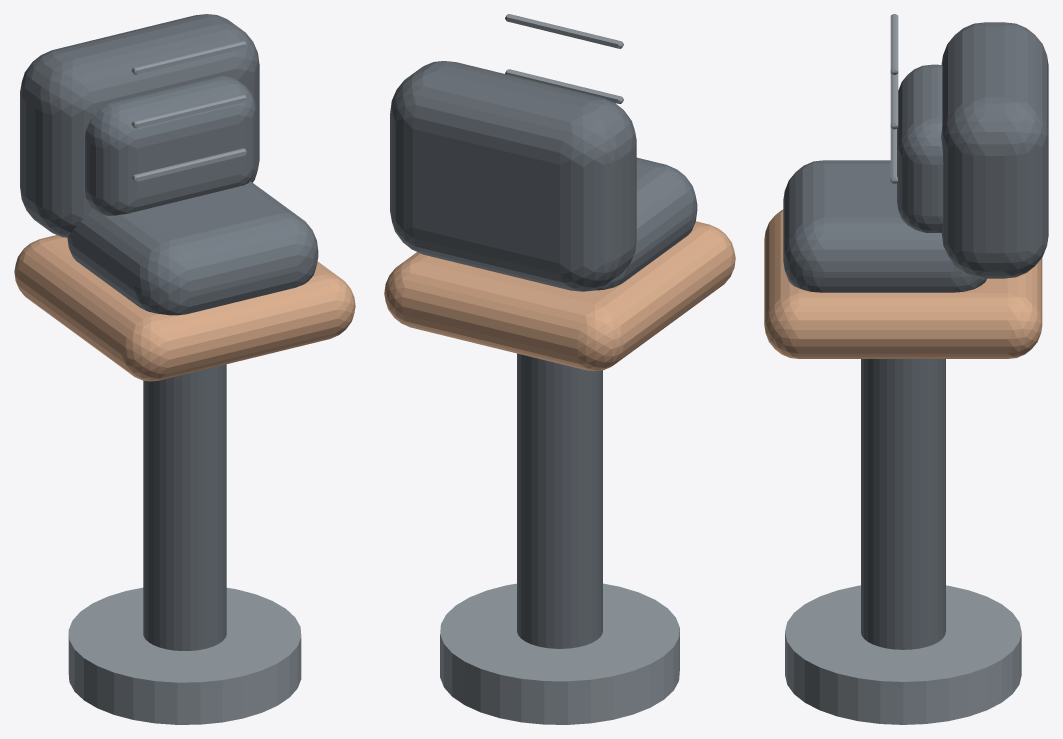
The model's file is bar_stool.glb.
The picture shows the model from 3 angles, left to right: view 1: azimuth 30°, elevation 25°; view 2: azimuth 150°, elevation 25°; view 3: azimuth 270°, elevation 25°; orthographic projection. The views are drawn at different scales.
Parts seen in each view (by area): view 1: column_002, column_001, seat_cushion_005, back_shell_006, seat_frame_004, back_cushion_007, stitch_009, stitch_010, stitch_008; view 2: back_shell_006, seat_frame_004, column_002, column_001, seat_cushion_005, stitch_010, stitch_009; view 3: back_shell_006, column_002, column_001, seat_frame_004, seat_cushion_005, back_cushion_007, stitch_010, stitch_009.
Part boxes in pixels (left/top/right/bottom): column_002: left=143, top=364, right=226, bottom=650; column_001: left=68, top=587, right=301, bottom=724; seat_cushion_005: left=67, top=181, right=318, bottom=315; back_shell_006: left=20, top=14, right=259, bottom=237; seat_frame_004: left=14, top=235, right=355, bottom=381; back_cushion_007: left=85, top=76, right=256, bottom=215; stitch_009: left=131, top=94, right=246, bottom=128; stitch_010: left=131, top=41, right=246, bottom=74; stitch_008: left=131, top=148, right=246, bottom=181; back_shell_006: left=390, top=61, right=636, bottom=291; seat_frame_004: left=384, top=221, right=735, bottom=370; column_002: left=517, top=353, right=602, bottom=648; column_001: left=440, top=583, right=679, bottom=724; seat_cushion_005: left=594, top=157, right=697, bottom=290; stitch_010: left=505, top=14, right=623, bottom=48; stitch_009: left=505, top=69, right=623, bottom=103; back_shell_006: left=941, top=22, right=1048, bottom=278; column_002: left=861, top=359, right=945, bottom=649; column_001: left=785, top=585, right=1021, bottom=724; seat_frame_004: left=764, top=209, right=1042, bottom=358; seat_cushion_005: left=783, top=160, right=986, bottom=292; back_cushion_007: left=897, top=64, right=943, bottom=232; stitch_010: left=890, top=14, right=898, bottom=74; stitch_009: left=890, top=73, right=898, bottom=129.
Bounding box in the file's own units: 0.425 × 1.11 × 0.45.
